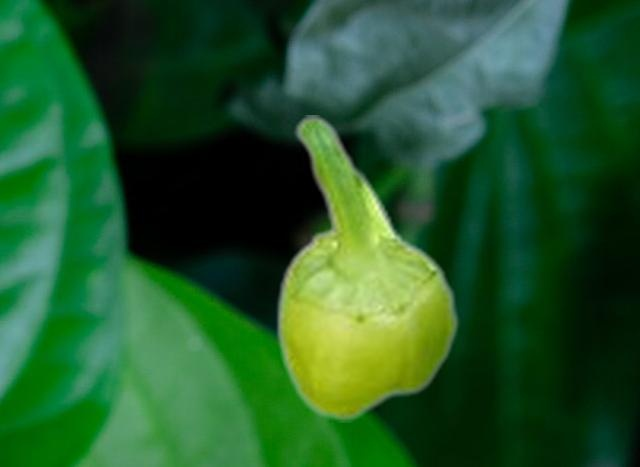bell_pepper: (274, 115, 459, 421)
